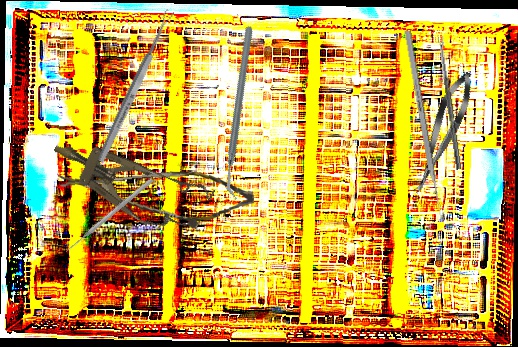Chopper: (165, 23, 317, 202)
Micro Scissor: (58, 155, 256, 235), (404, 67, 481, 199)
Pusher: (404, 30, 444, 219), (63, 176, 155, 255)
Speculum: (41, 119, 217, 246)
Surgical Spoon: (95, 8, 176, 164), (437, 36, 463, 170)
